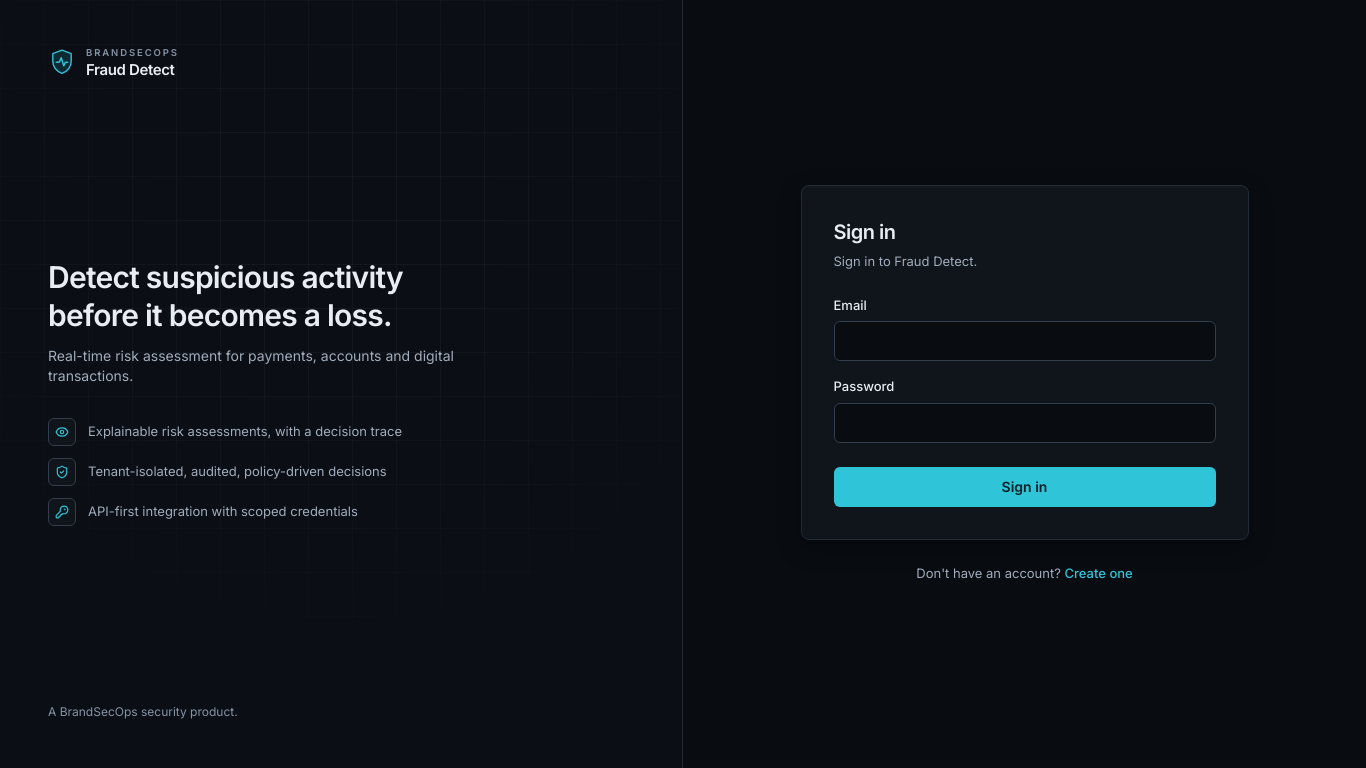
Test: sign in › signs in with valid credentials and lands on the overview
Type "owner@example.com" into the field labelled "Email" at (1024, 341), box [834,321,1216,361]
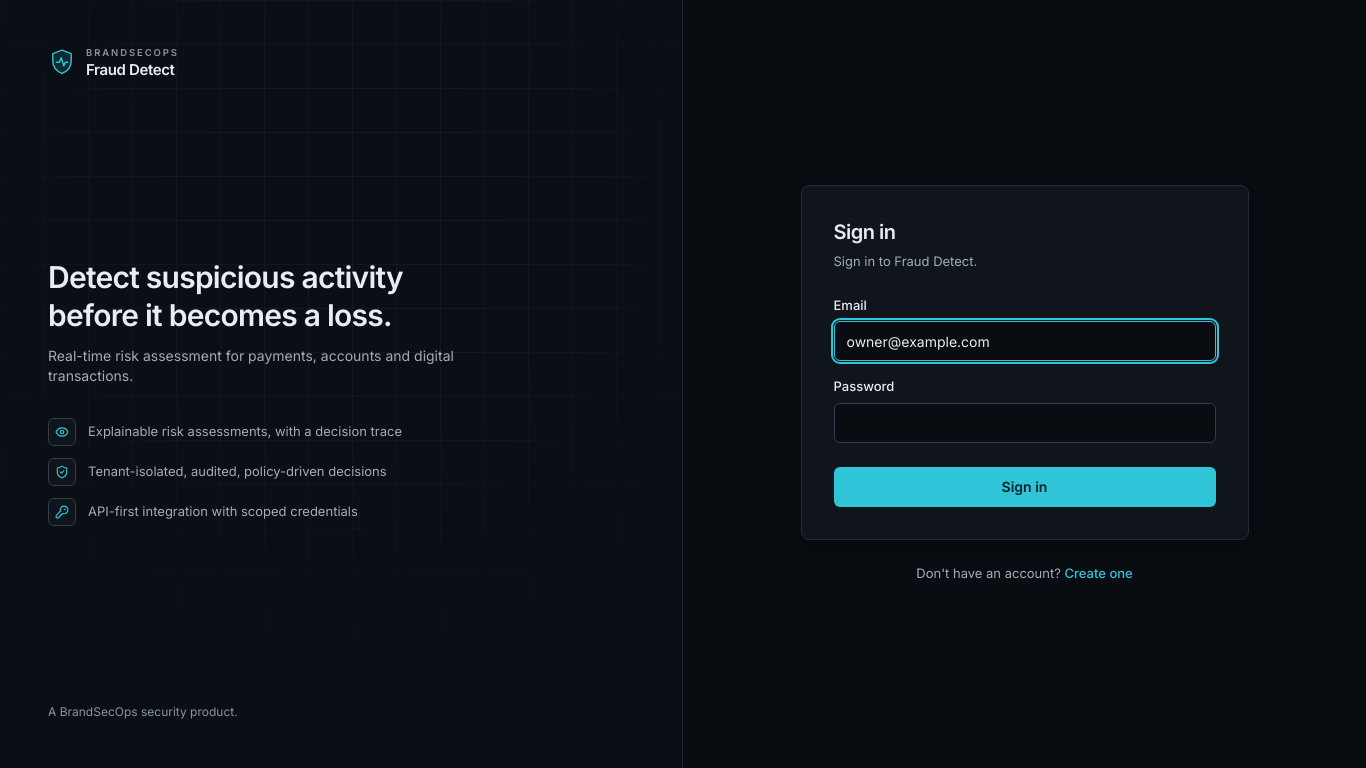
Type "correct-password" into the password field labelled "Password" at (1024, 422), box [834,402,1216,442]
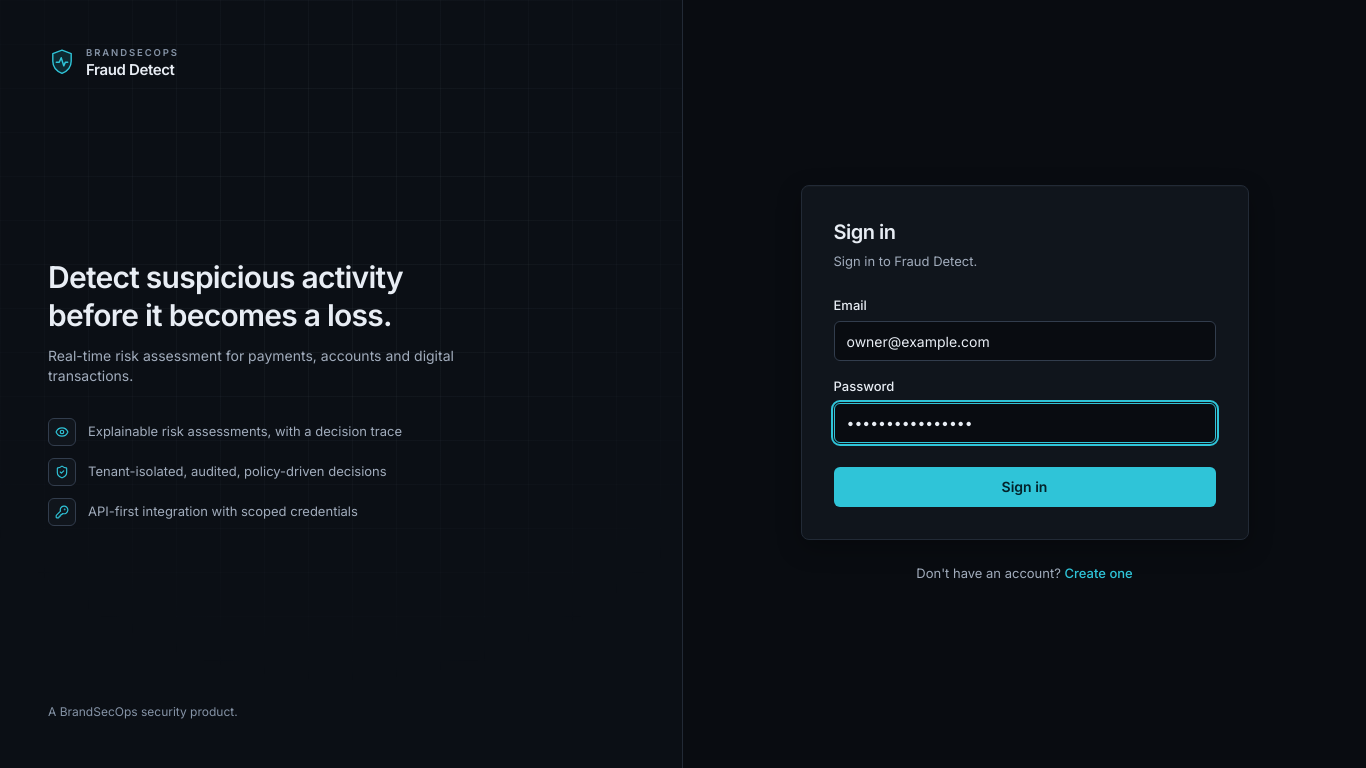
Click the button "Sign in" at (1024, 486), box [834,466,1216,506]
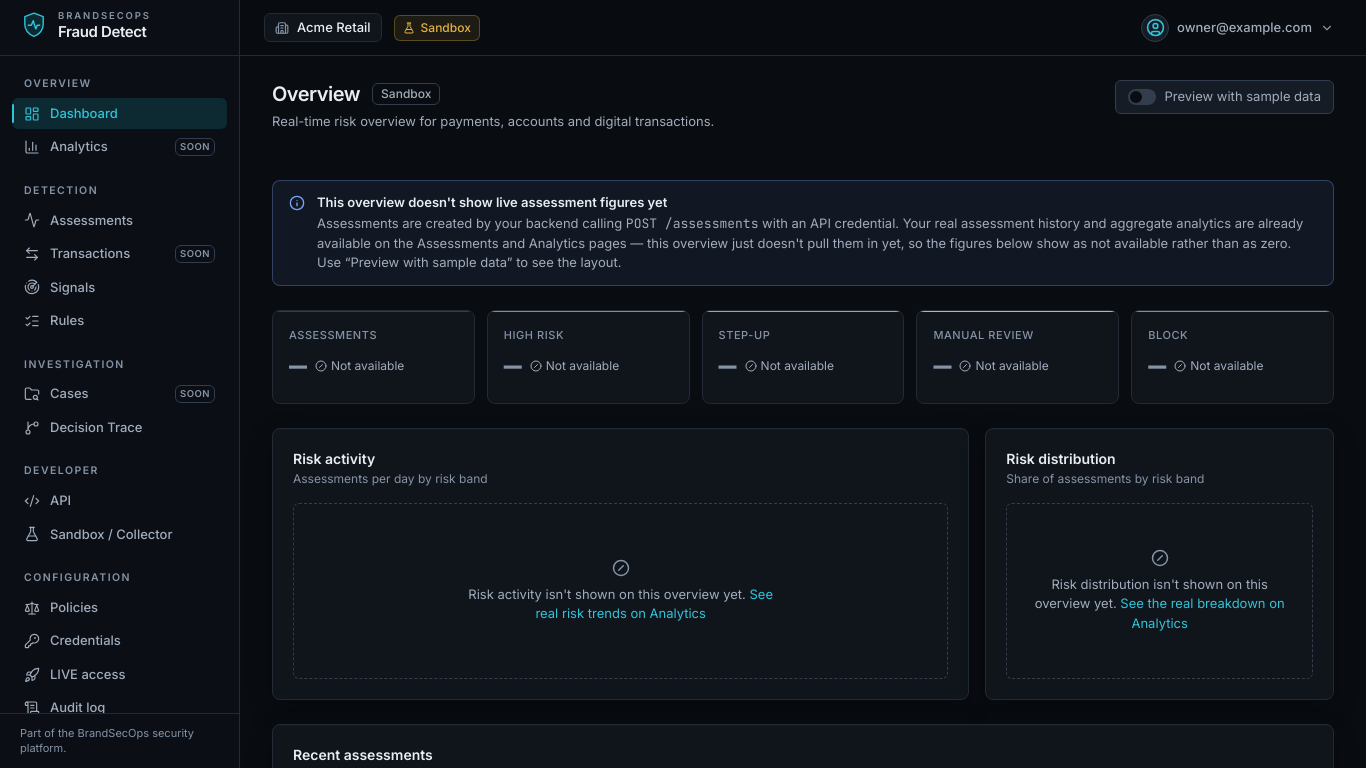
Result: the heading "Overview" is shown at [272,80,360,108]
